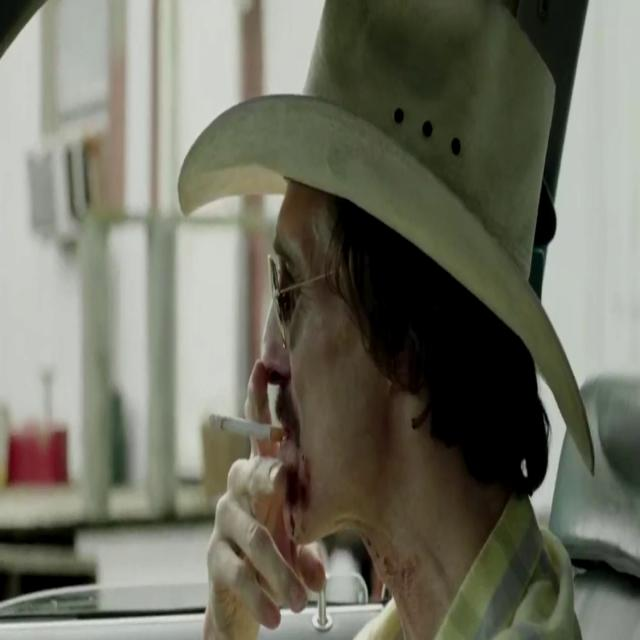Smooking: (207, 408, 294, 453)
